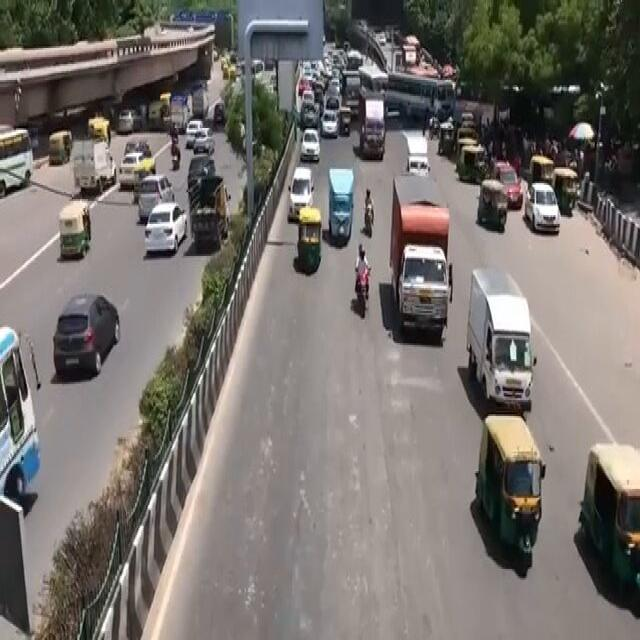three_wheeler: (294, 201, 327, 284)
